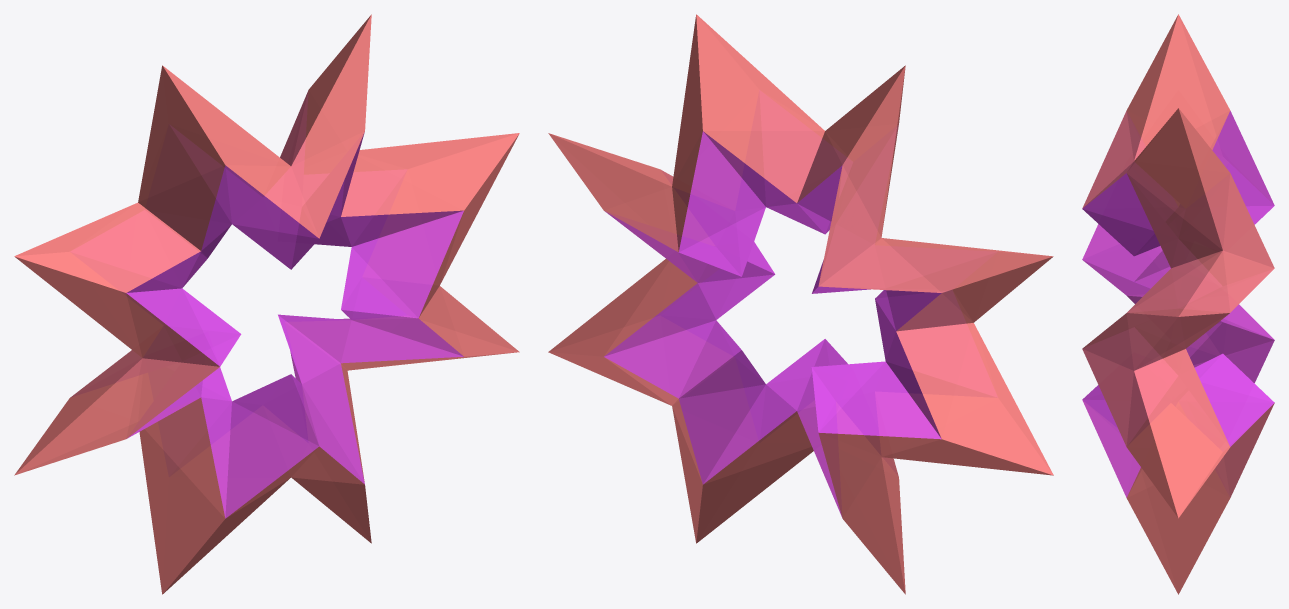
File: Regular8TetragonalStarToroidSin.obj
The picture shows the model from 3 angles, left to right: view 1: azimuth 30°, elevation 25°; view 2: azimuth 150°, elevation 25°; view 3: azimuth 270°, elevation 25°; orthographic projection. The views are drawn at different scales.
Size of the model in its own units: 3.62 by 3.62 by 1.3.
